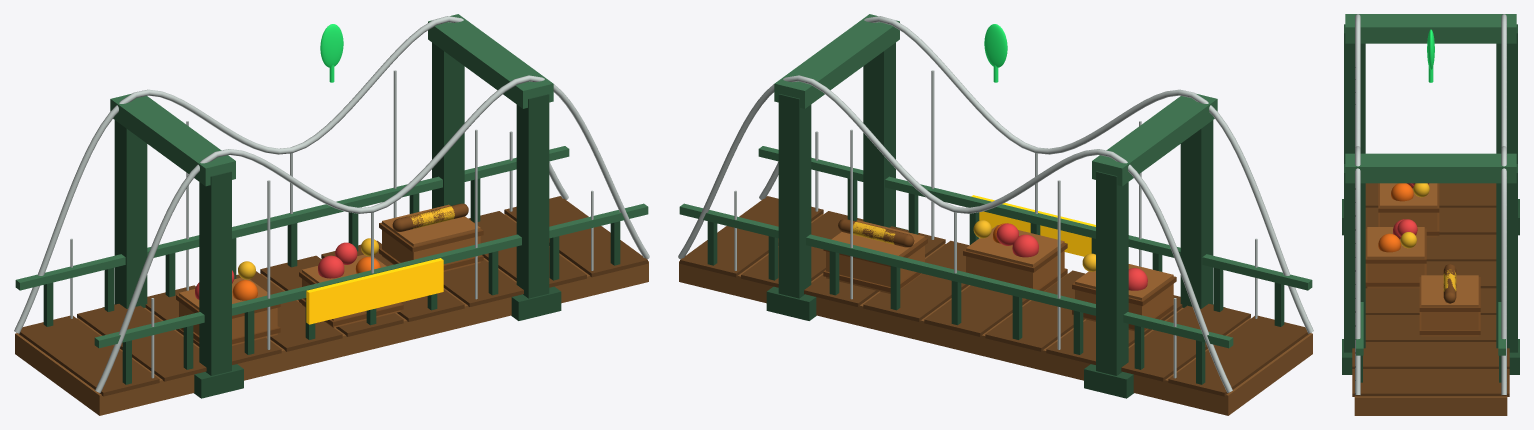
The model's file is foodbridge.glb.
The picture shows the model from 3 angles, left to right: view 1: azimuth 30°, elevation 25°; view 2: azimuth 150°, elevation 25°; view 3: azimuth 270°, elevation 25°; orthographic projection. The views are drawn at different scales.
Parts seen in each view (by area): view 1: Deck, TowerLeg_2.6_1, TowerLeg_-2.6_1, MainCable_1, TowerLeg_-2.6_-1, Rail_1, Rail_-1, Sign, MainCable_-1, Plank_0, TowerLeg_2.6_-1, TowerBeam_-2.6 (+17 smaller); view 2: Deck, TowerLeg_2.6_-1, TowerLeg_-2.6_-1, Rail_-1, MainCable_-1, TowerLeg_-2.6_1, TowerLeg_2.6_1, Rail_1, MainCable_1, Plank_0, TowerBeam_-2.6, TowerBeam_2.6 (+18 smaller); view 3: TowerBeam_2.6, TowerBeam_-2.6, Plank_8, Plank_7, Deck, CrateRight_Body, TowerLeg_2.6_-1, TowerLeg_2.6_1, CrateCenter_Body, Plank_6, MainCable_-1, MainCable_1 (+20 smaller).
Boxes of the visible parts, x1,y1,x2,y2 form: Deck: (15,214,648,415); TowerLeg_2.6_1: (516,94,549,298); TowerLeg_-2.6_1: (199,171,231,375); MainCable_1: (95,75,649,392); TowerLeg_-2.6_-1: (114,120,147,308); Rail_1: (94,203,648,348); Rail_-1: (15,146,569,290); Sign: (306,258,443,324); MainCable_-1: (14,16,568,333); Plank_0: (18,315,159,396); TowerLeg_2.6_-1: (432,42,464,208); TowerBeam_-2.6: (110,94,235,186); Deck: (679,214,1312,415); TowerLeg_2.6_-1: (778,94,811,298); TowerLeg_-2.6_-1: (1096,171,1128,375); Rail_-1: (679,203,1233,348); MainCable_-1: (678,75,1232,392); TowerLeg_-2.6_1: (1180,120,1213,308); TowerLeg_2.6_1: (863,42,895,227); Rail_1: (758,146,1312,290); MainCable_1: (759,16,1313,333); Plank_0: (1168,315,1309,396); TowerBeam_-2.6: (1092,94,1217,186); TowerBeam_2.6: (774,14,899,108); TowerBeam_2.6: (1345,153,1516,183); TowerBeam_-2.6: (1345,14,1516,43); Plank_8: (1352,369,1509,396); Plank_7: (1352,342,1509,368); Deck: (1354,396,1507,415); CrateRight_Body: (1421,275,1478,336); TowerLeg_2.6_-1: (1496,164,1517,352); TowerLeg_2.6_1: (1344,164,1365,352); CrateCenter_Body: (1367,227,1424,288); Plank_6: (1365,315,1496,341); MainCable_-1: (1501,14,1506,394); MainCable_1: (1355,14,1360,394).
Bounding box in the file's own units: 9.08 × 4.61 × 2.8.
